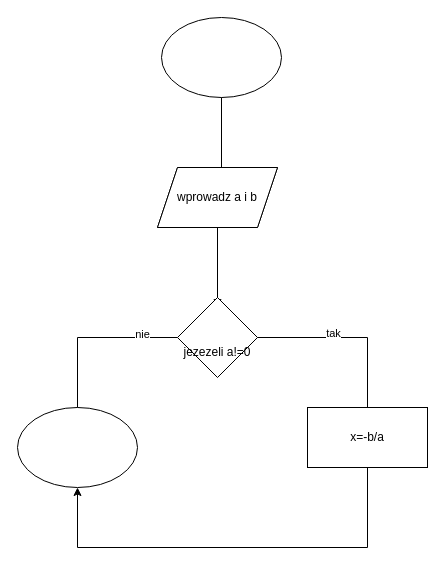
This 445x573 diagram has some shape labels left out. Here are the shapes that lost their labels. From the top down, the centre of each, then its label:
At [221,57]: "start".
At [77,447]: "koniec".
